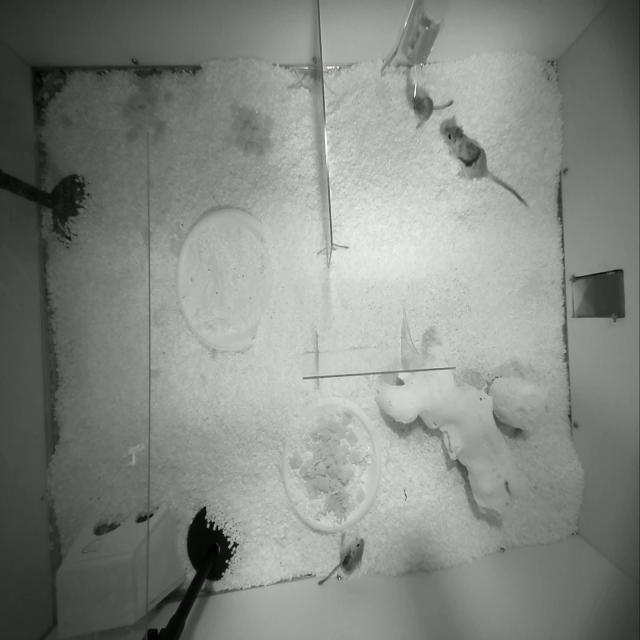adult_front: (440, 116, 528, 206)
pup_fluffy: (412, 92, 453, 129)
pup_v_stripe: (318, 533, 364, 585)
